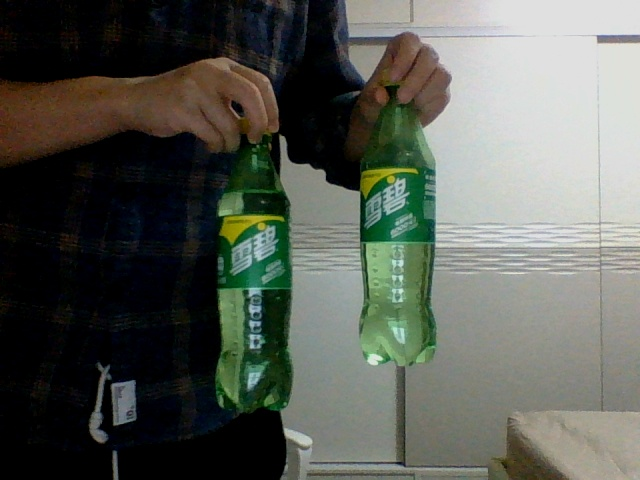Sprite: (214, 114, 292, 415), (359, 68, 437, 363)
